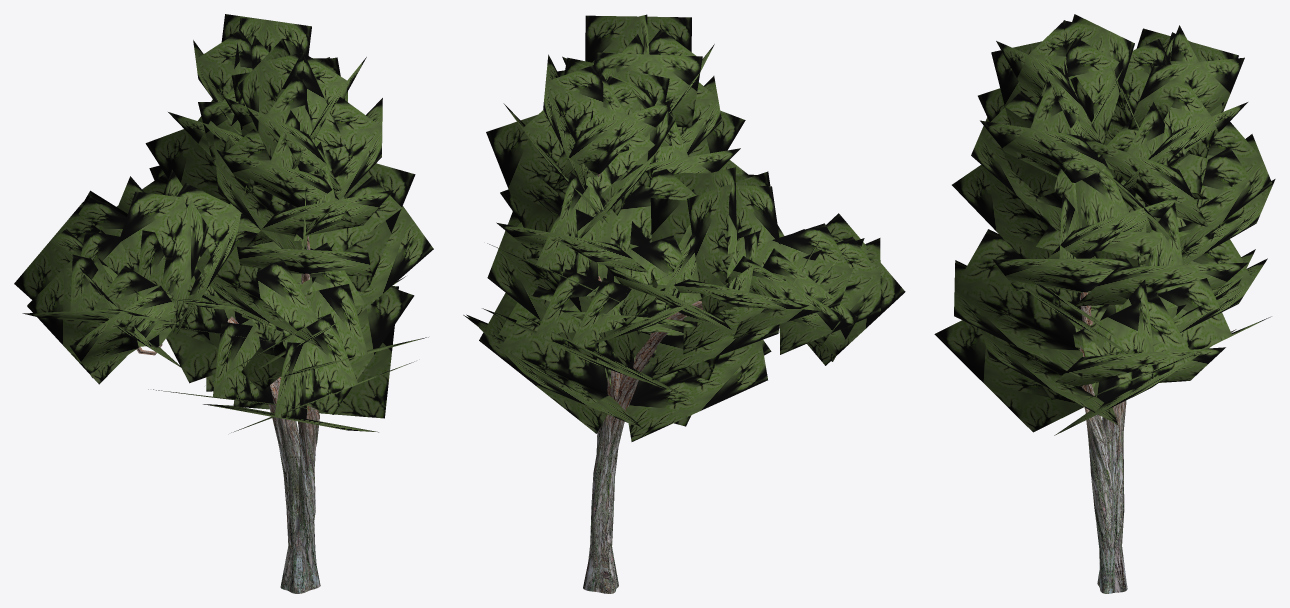
Rendered from SmallTree_03_v3.obj.
The picture shows the model from 3 angles, left to right: view 1: azimuth 30°, elevation 25°; view 2: azimuth 150°, elevation 25°; view 3: azimuth 270°, elevation 25°; orthographic projection.
Visible parts, largest first — view 1: bark08, pine branch_t; view 2: bark08, pine branch_t; view 3: bark08, pine branch_t.
Boxes of the visible parts, x1,y1,x2,y2 form: bark08: [14, 14, 433, 432]; pine branch_t: [136, 235, 320, 593]; bark08: [463, 14, 905, 441]; pine branch_t: [583, 173, 779, 593]; bark08: [934, 14, 1275, 435]; pine branch_t: [1080, 292, 1127, 593].
Size of the model in its own units: 56.46 by 75.81 by 42.25.
2 materials, 2 textured.
